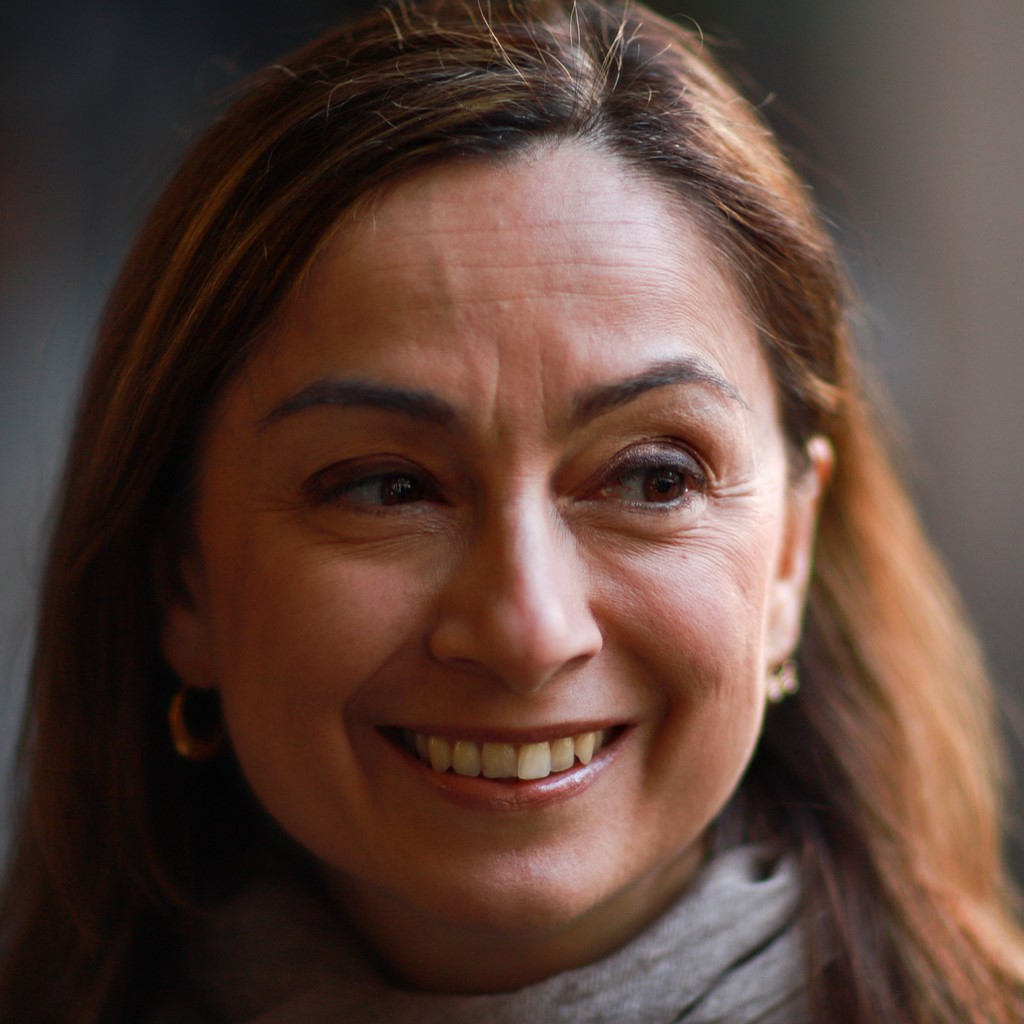sin_mascara: (176, 113, 813, 939)
